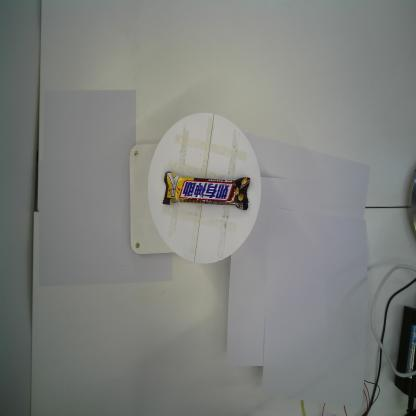Chocolate: (162, 170, 251, 212)
